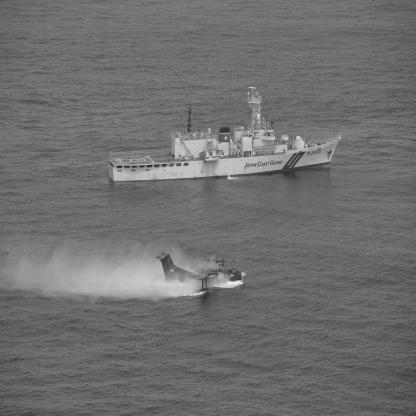US2: (155, 249, 247, 294)
